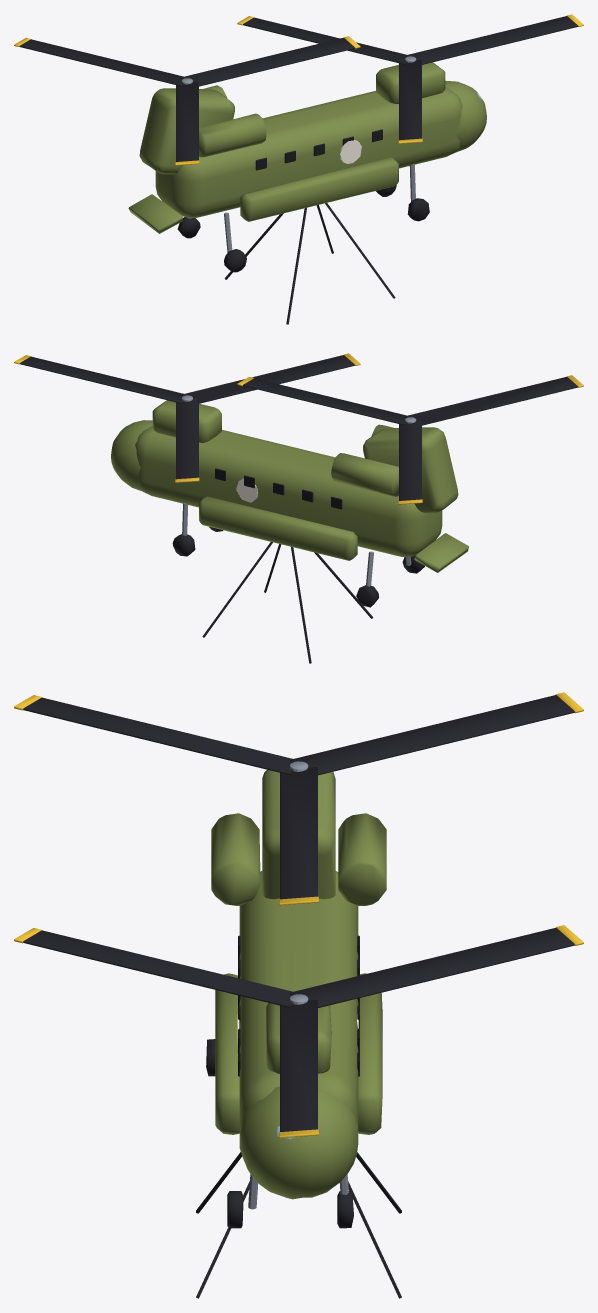
File: chinook.glb
The picture shows the model from 3 angles, top to bottom: view 1: azimuth 30°, elevation 25°; view 2: azimuth 150°, elevation 25°; view 3: azimuth 270°, elevation 25°; orthographic projection. The views are drawn at different scales.
Parts seen in each view (by area): view 1: chinook.002, rotorB.002, rotorF.002; view 2: chinook.002, rotorB.002, rotorF.002; view 3: chinook.002, rotorB.002, rotorF.002.
Part boxes in pixels (x1,y1,x2,y2): chinook.002: (128,62,486,324); rotorB.002: (14,36,360,165); rotorF.002: (237,14,583,143); chinook.002: (111,400,468,663); rotorB.002: (237,375,583,504); rotorF.002: (14,353,360,482); chinook.002: (196,770,401,1298); rotorB.002: (14,692,583,905); rotorF.002: (14,925,583,1137).
Bounding box in the file's own units: 21.66 × 10.23 × 13.45.
1 material, 1 textured.
